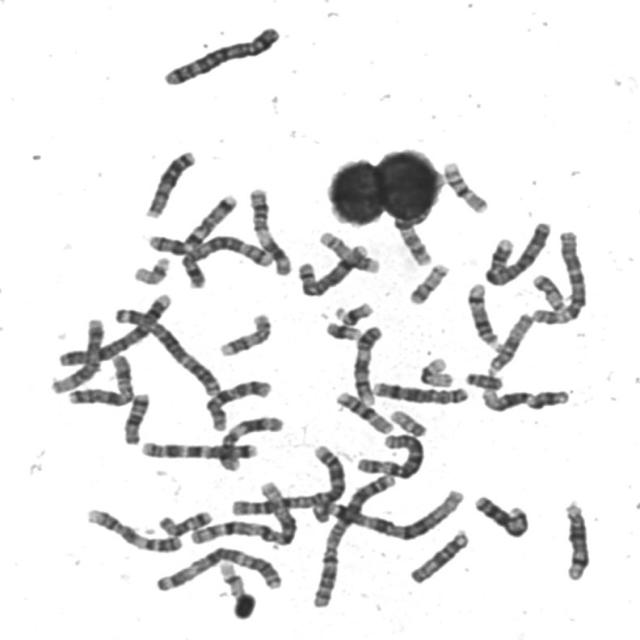A1: (309, 484, 466, 542), (185, 478, 299, 549)
A2: (308, 470, 399, 611), (225, 440, 348, 518)
A3: (109, 300, 224, 397), (151, 544, 286, 595)
B4: (55, 289, 174, 369), (480, 217, 554, 288)
B5: (159, 22, 283, 88), (178, 230, 274, 292)
C10: (390, 190, 455, 268), (201, 376, 274, 434)
C11: (245, 184, 294, 278), (215, 412, 286, 472)
C12: (46, 314, 108, 396), (478, 383, 574, 412)
C6: (528, 225, 590, 327), (352, 430, 427, 479)
C7: (143, 191, 238, 257), (136, 436, 262, 462)
C8: (295, 240, 373, 298), (369, 377, 471, 407)
C9: (82, 504, 184, 554), (349, 322, 386, 407)
D13: (141, 147, 198, 220), (470, 492, 531, 540)
D14: (463, 279, 503, 351), (559, 498, 593, 582)
D15: (406, 526, 472, 586), (483, 309, 535, 376)
E16: (332, 387, 396, 436), (438, 157, 490, 215)
E17: (315, 227, 383, 275), (216, 310, 274, 358)
E18: (154, 507, 215, 538), (120, 388, 152, 446)
F19: (415, 353, 456, 389), (215, 557, 248, 598)
F20: (405, 260, 452, 306), (528, 271, 569, 313)
G21: (332, 298, 375, 328), (322, 319, 362, 342)
G22: (386, 406, 430, 438), (130, 252, 175, 282)
X: (64, 352, 135, 408)
Y: (461, 369, 505, 391)
